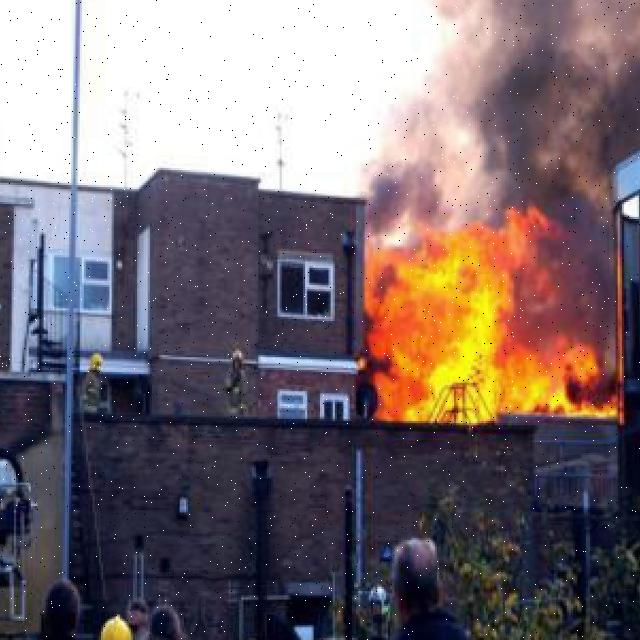fire: (367, 224, 564, 410)
smoke: (360, 0, 640, 238), (569, 366, 622, 412)
